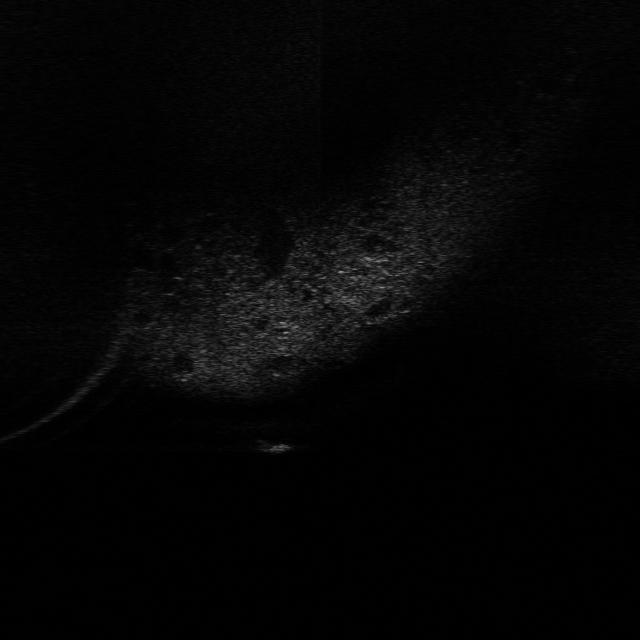cube: (252, 435, 298, 457)
